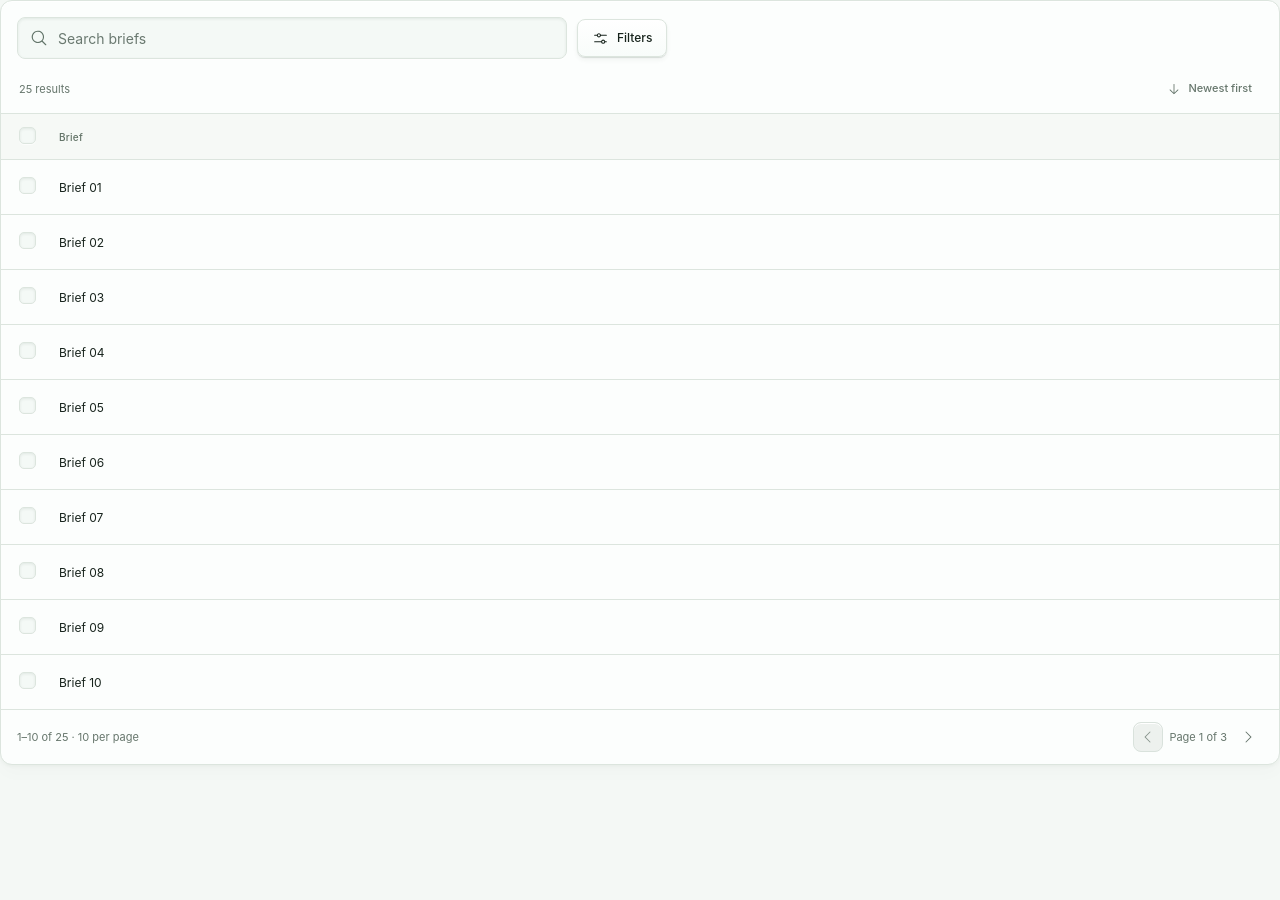
Test: entity selection › keeps selection across pages and limits the page checkbox to visible rows
Click the checkbox named "Select this page" at (28, 136), box [19,127,36,144]
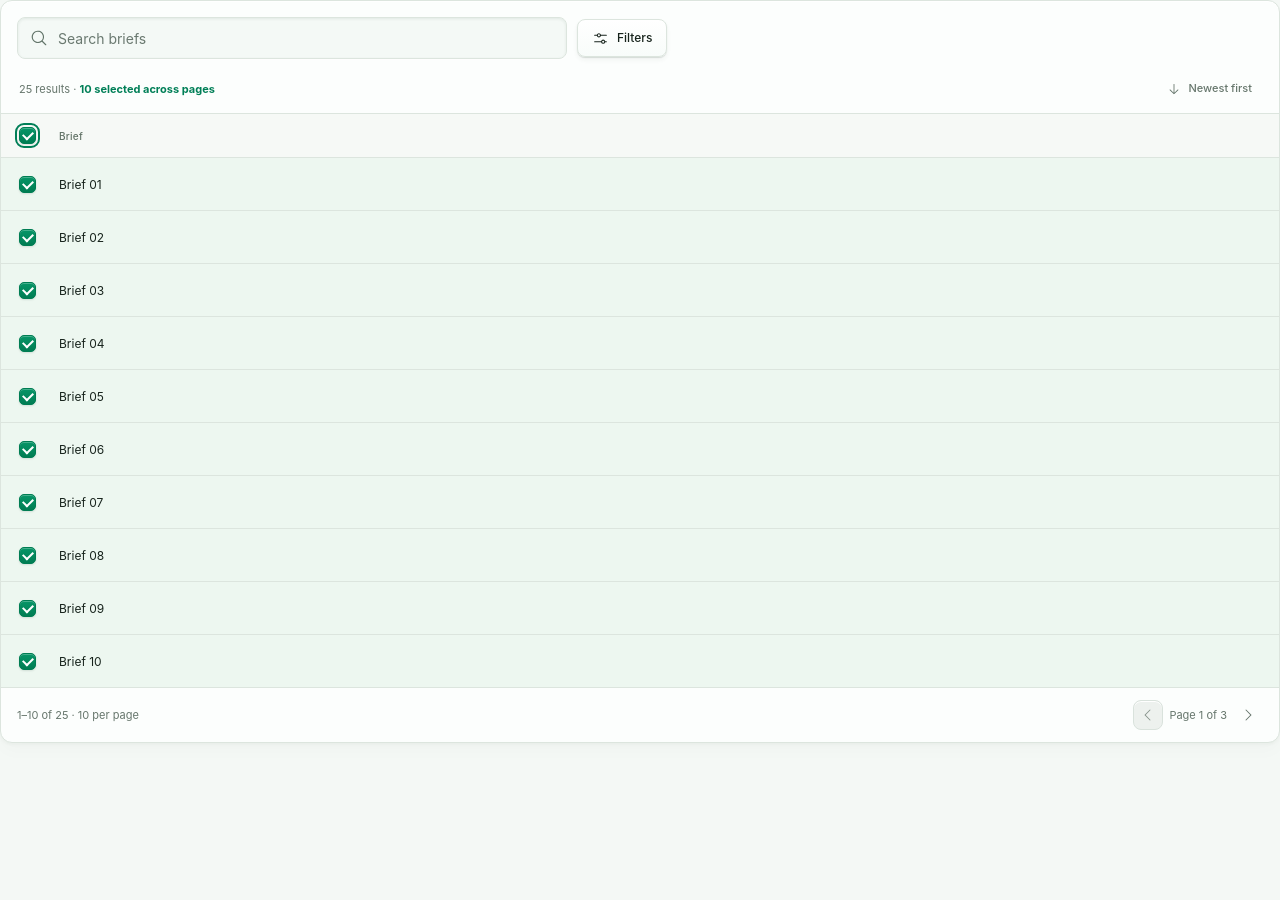
Check: the text "10 selected across pages" is shown, box [80,82,215,96]
Click the button named "Next page" at (1248, 715), box [1233,700,1263,730]
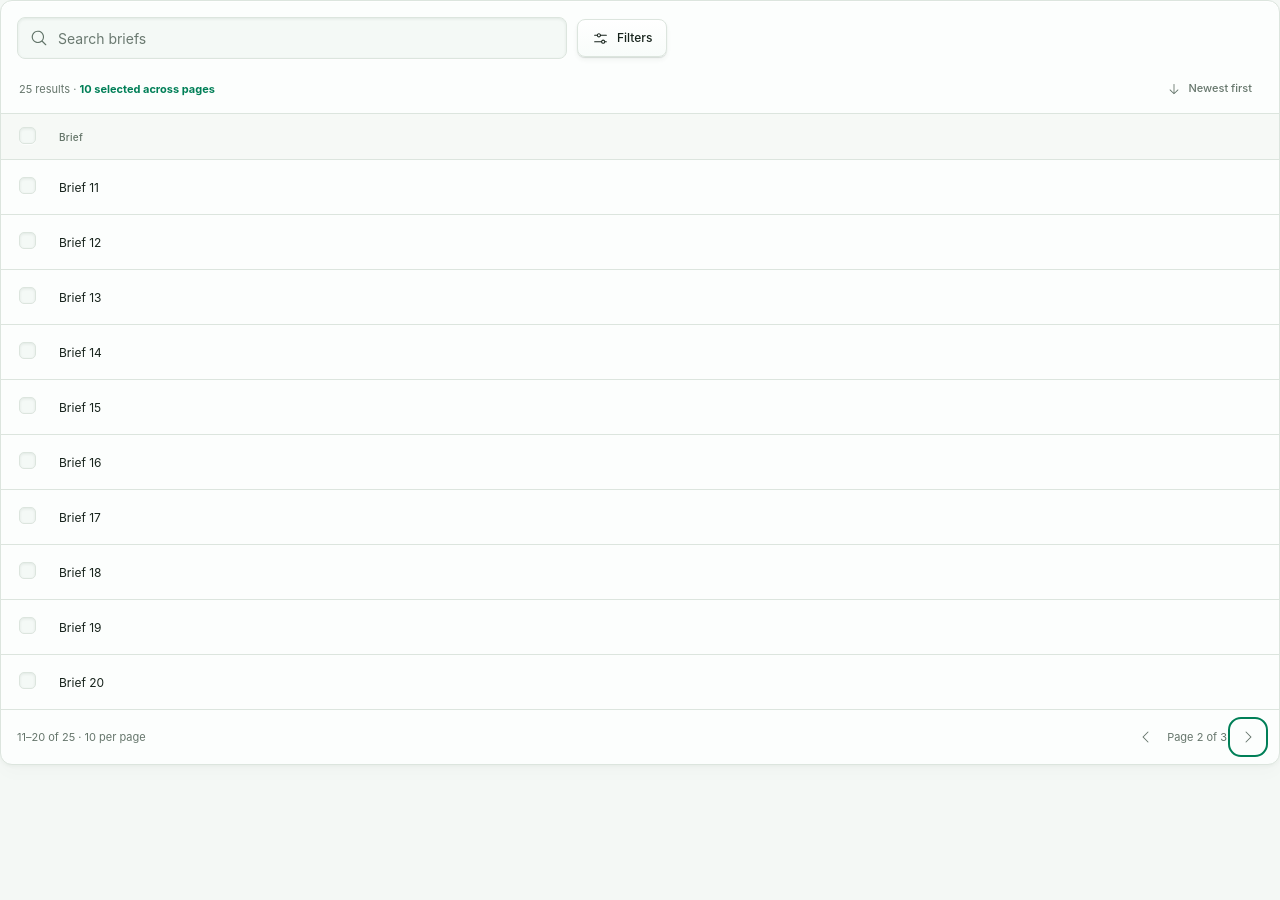
Check: the checkbox named "Select this page" is not checked, box [19,127,36,144]
Click the checkbox named "Select Brief 11" at (28, 186), box [19,177,36,194]
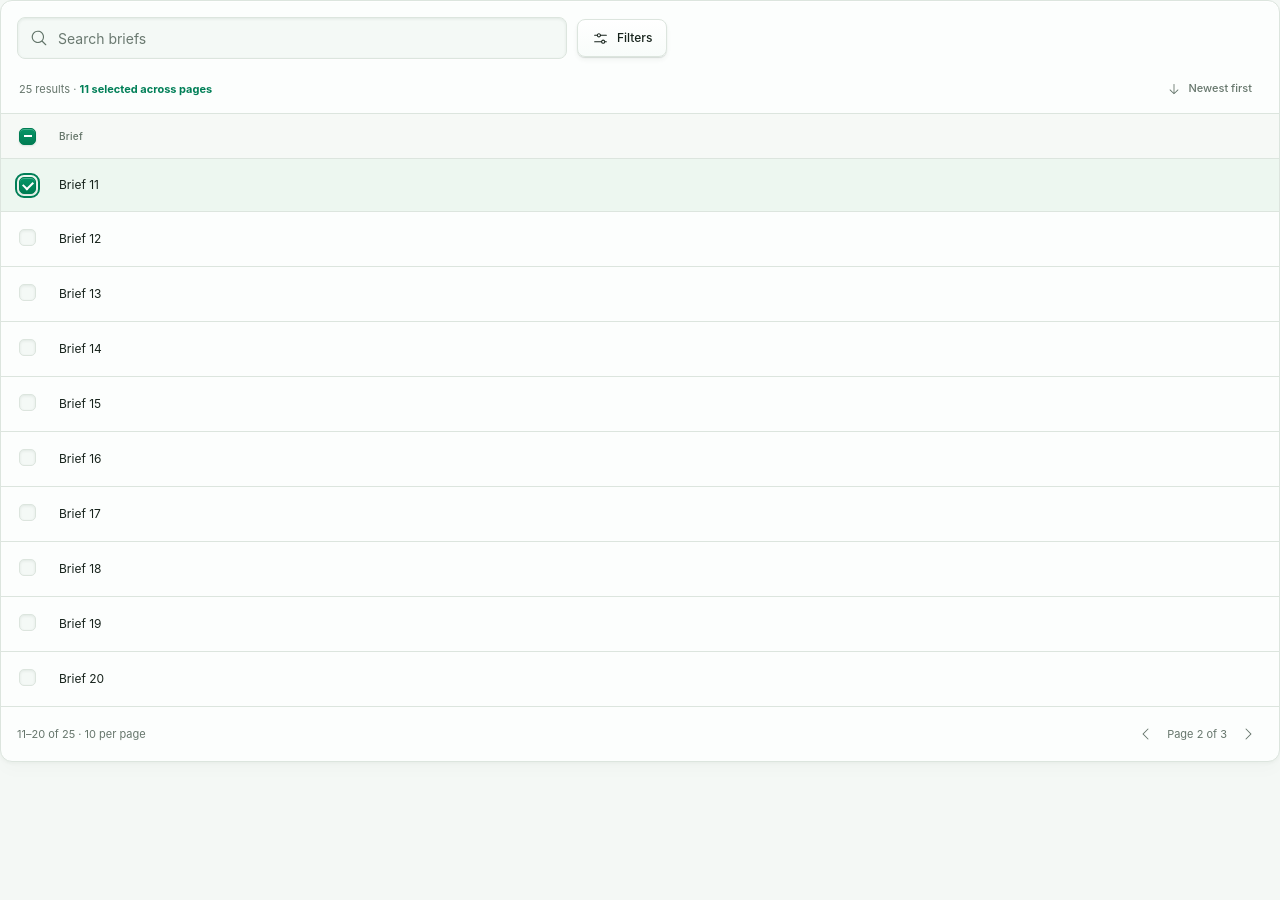
Check: the text "11 selected across pages" is shown, box [80,82,212,96]
Click the button named "Previous page" at (1146, 734), box [1131,718,1161,748]
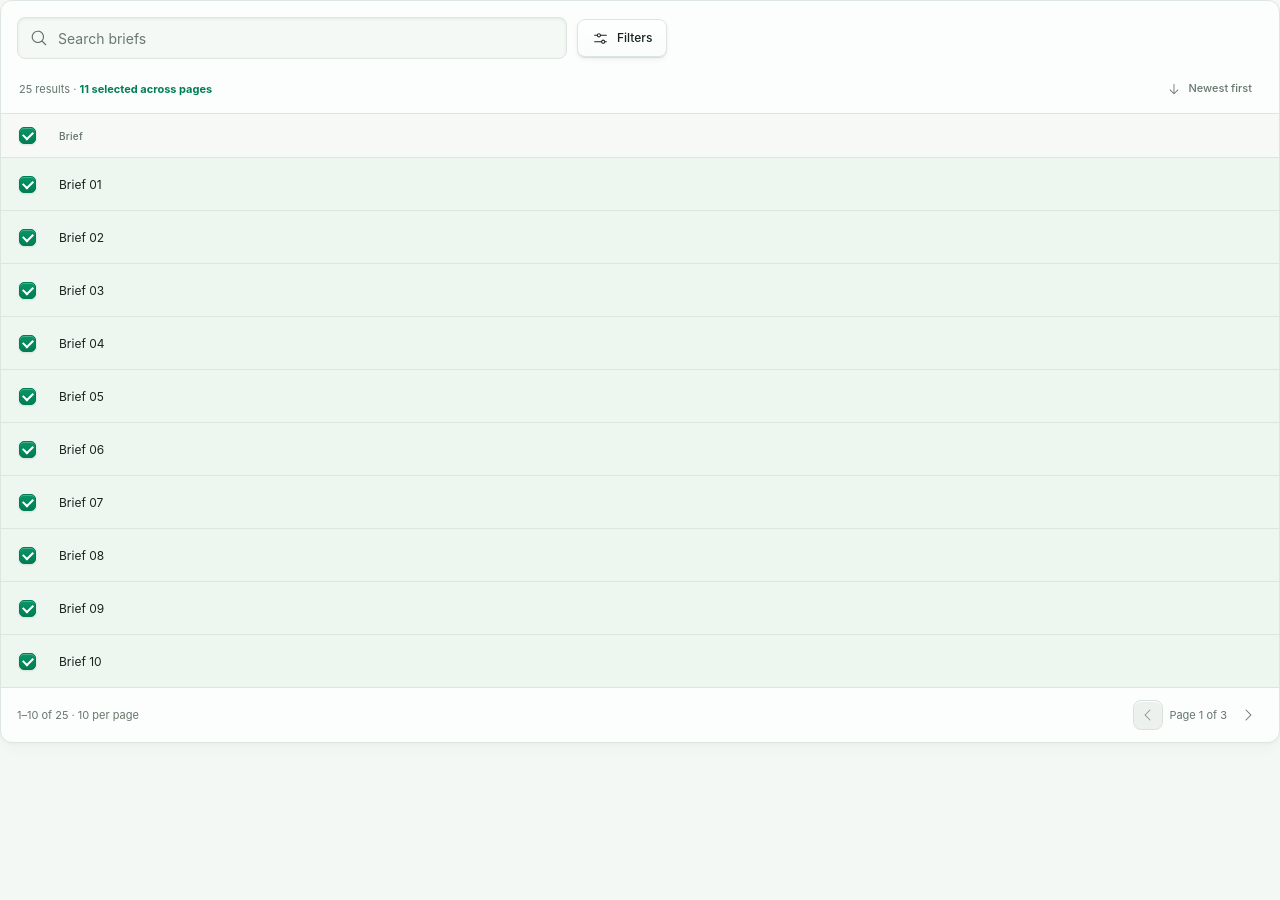
Check: the checkbox named "Select this page" is checked
Click the checkbox named "Select this page" at (28, 136), box [19,127,36,144]
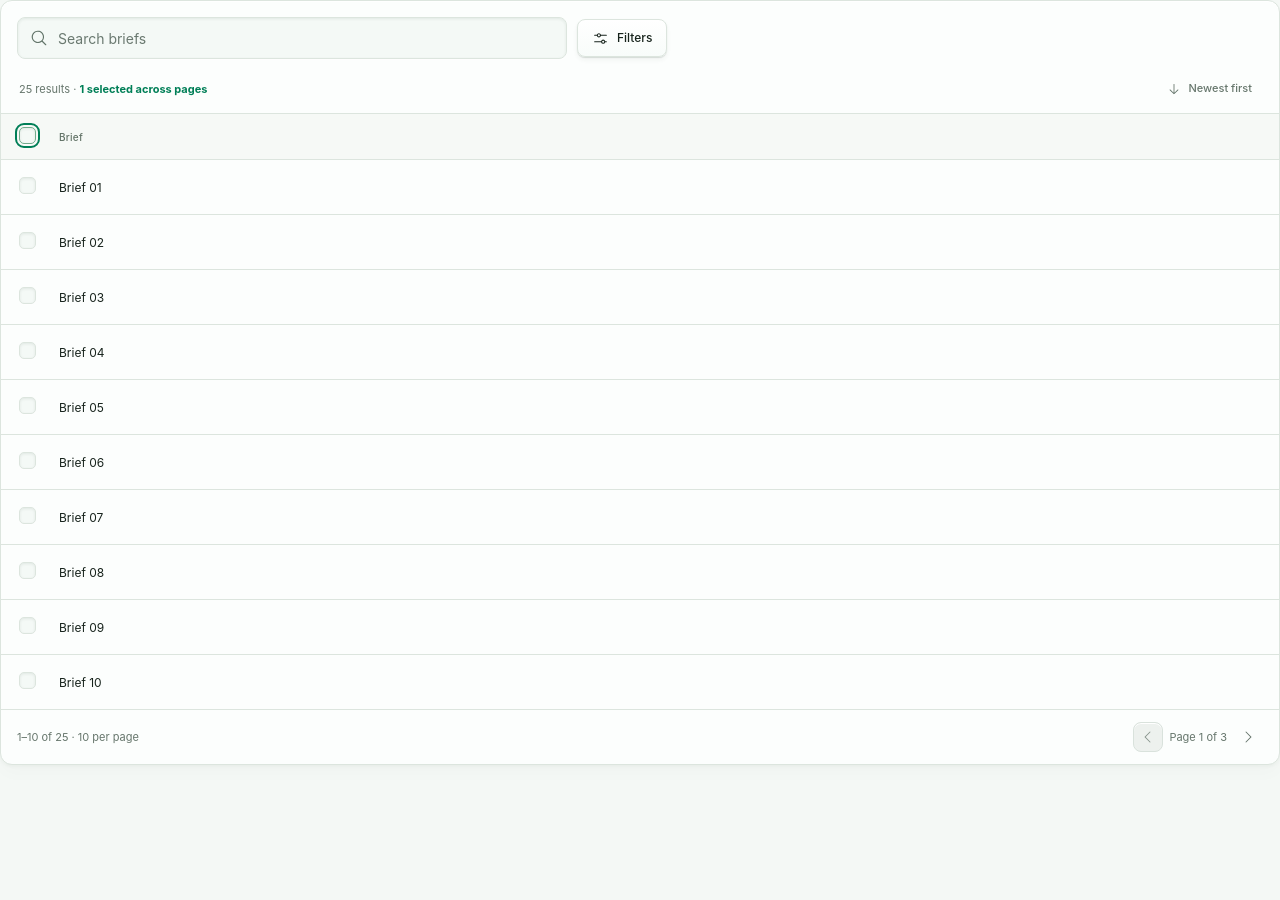
Check: the text "1 selected across pages" is shown, box [80,82,207,96]
Type "Brief 11" into the field labelled "Search briefs" at (306, 38), box [58,18,554,58]
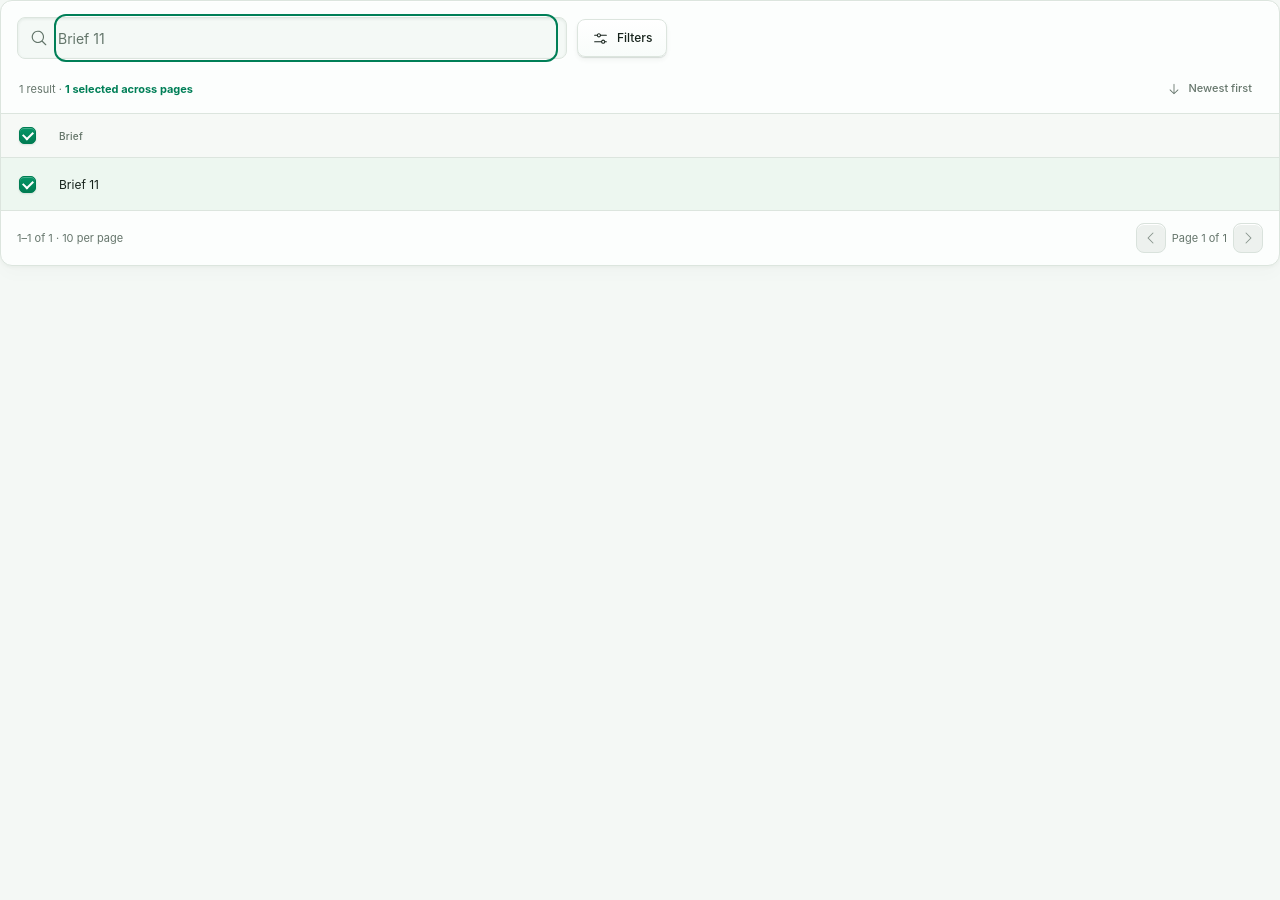
Check: the checkbox named "Select Brief 11" is checked, box [19,176,36,193]
